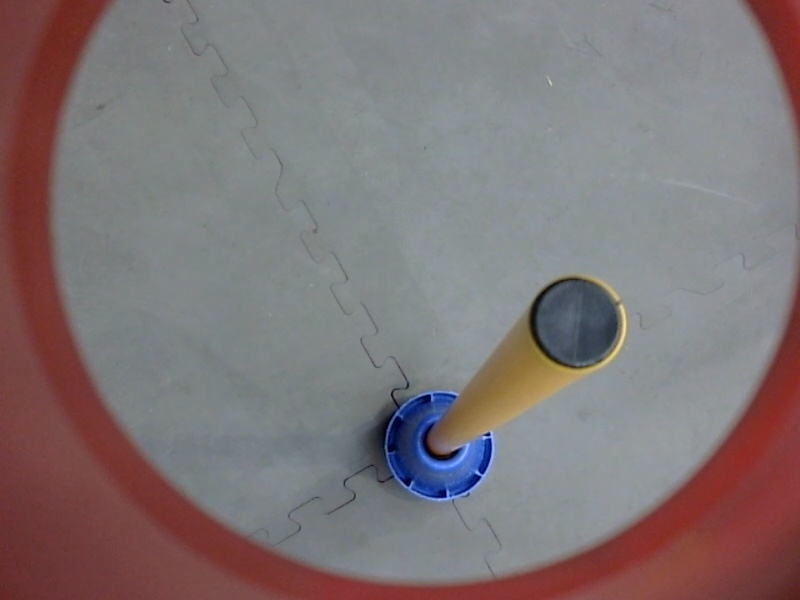tip: (524, 269, 630, 375)
